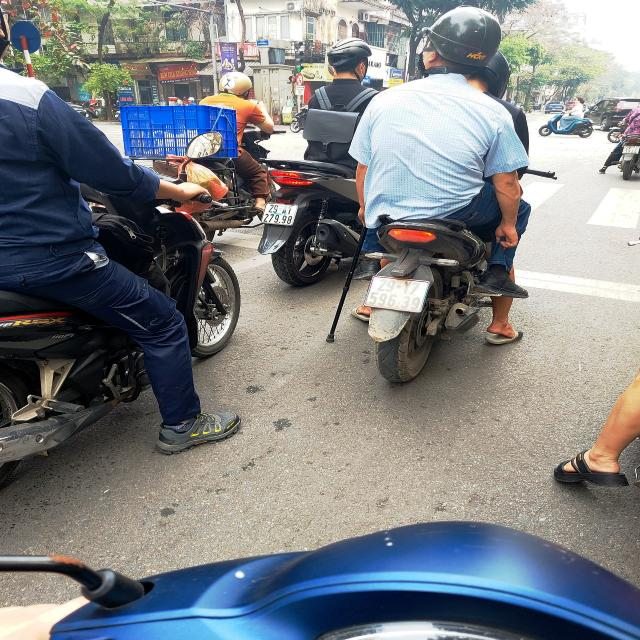license_plate: (365, 277, 431, 313), (261, 203, 299, 226)
